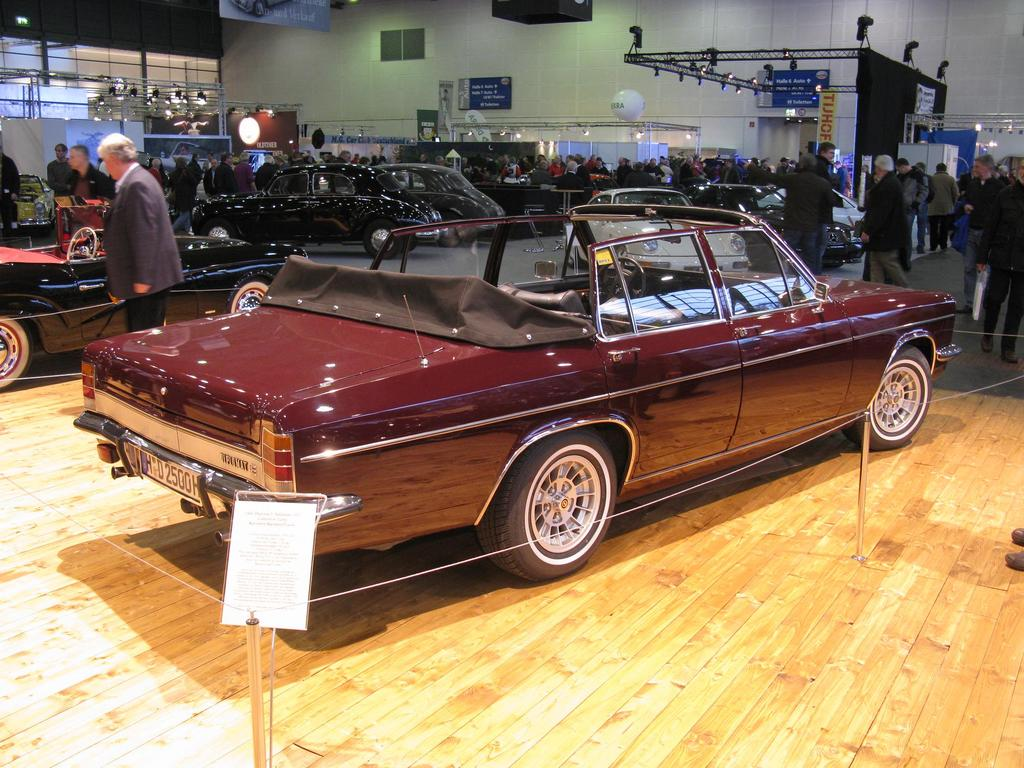Car: (0, 161, 958, 591)
